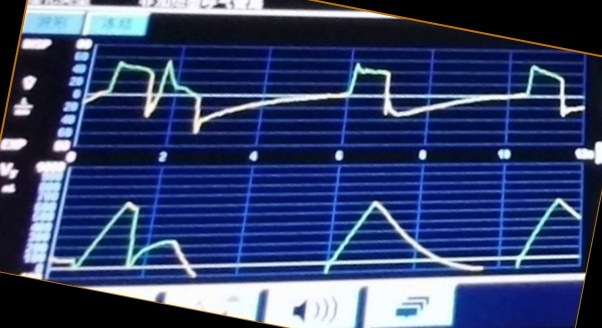Double_Triggering Flow: (88, 61, 575, 137)
Double_Triggering Volume: (54, 193, 581, 276)
